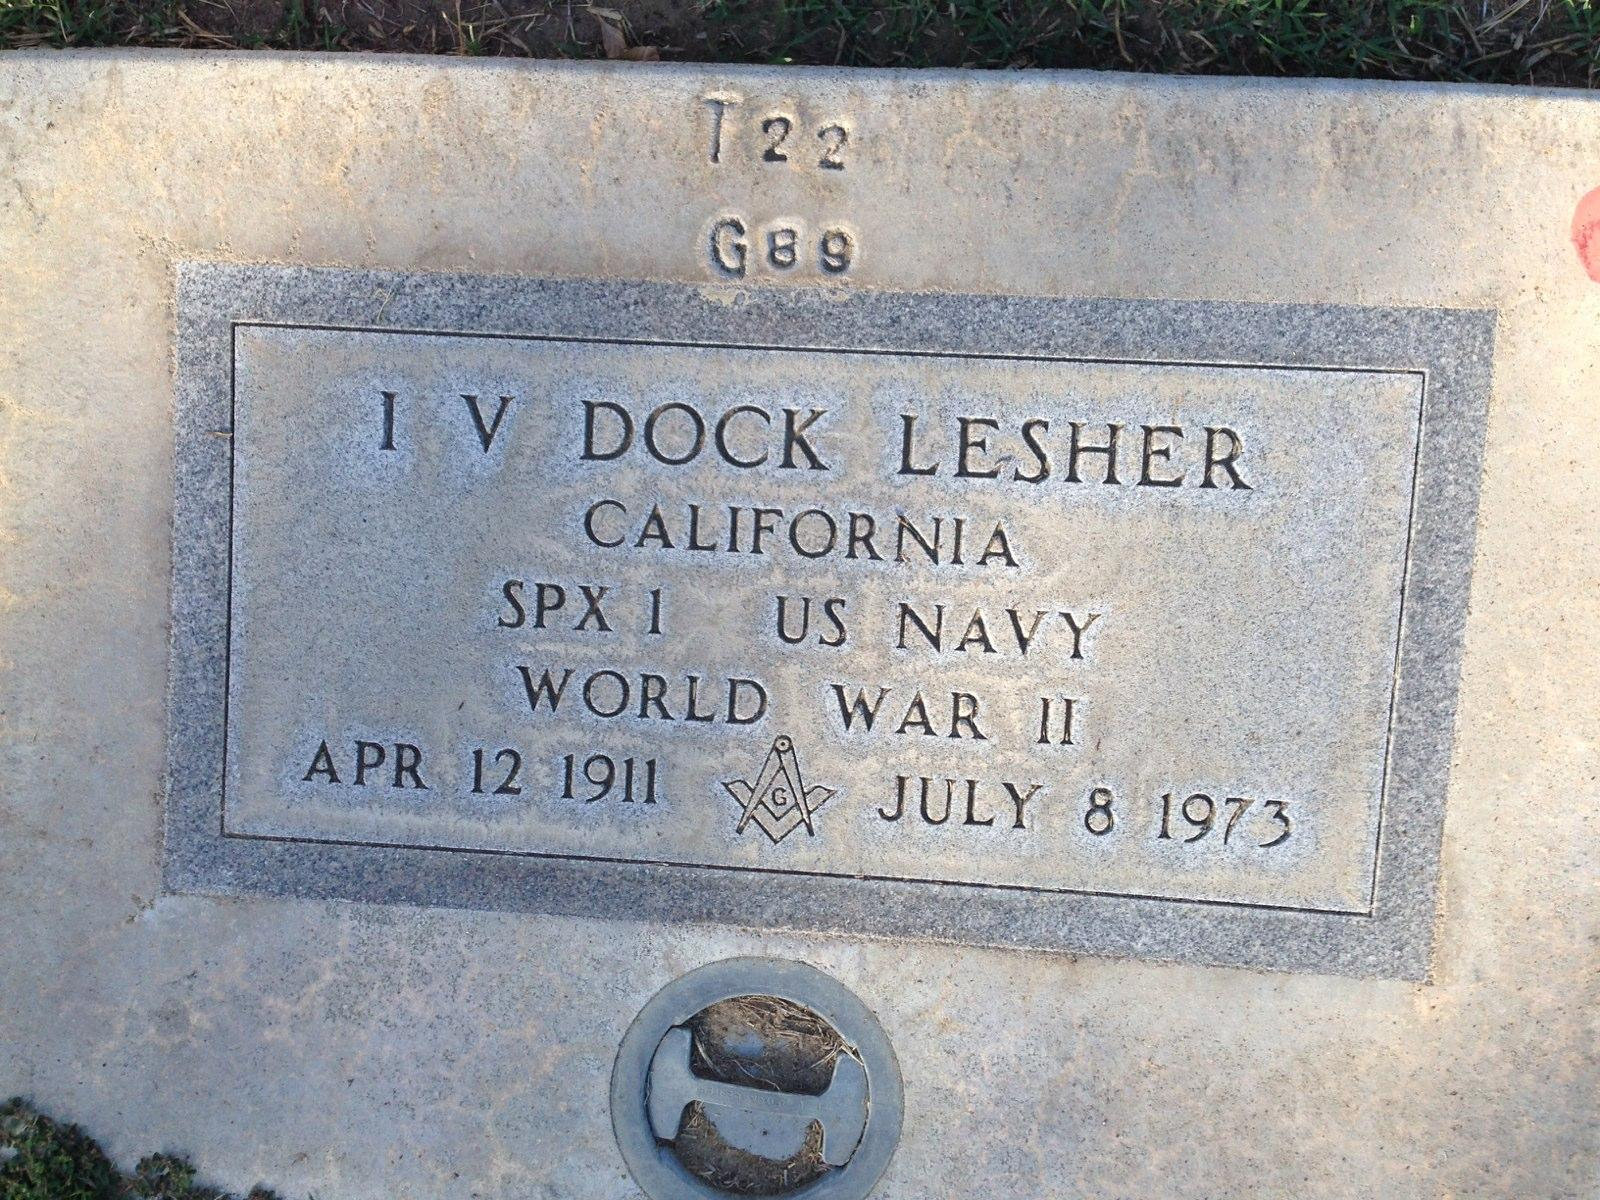flat: (157, 255, 1497, 995)
